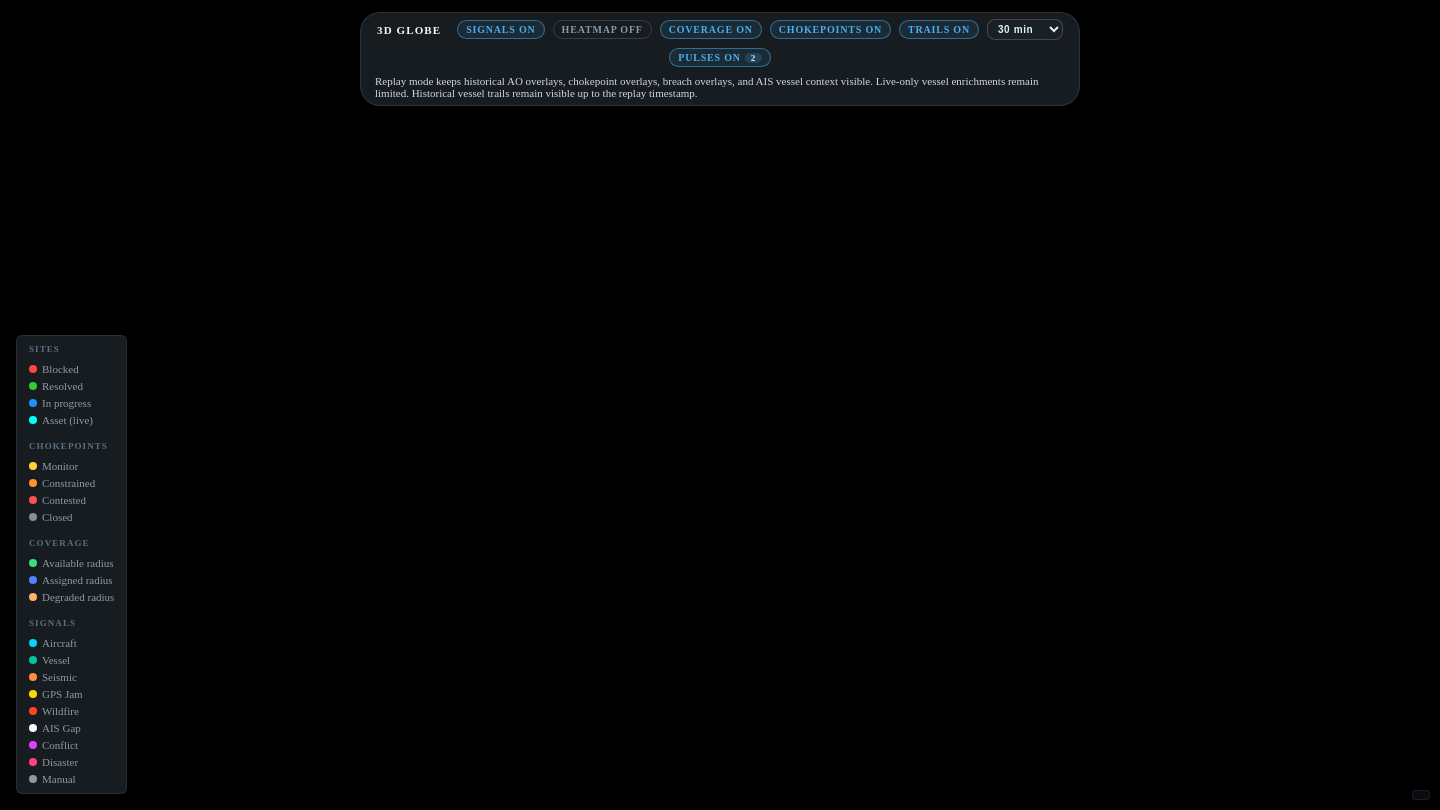
Test: GlobePage selection routing › renders the replay pulses toggle during replay with the pulse count badge and forwards the layer toggle
Click the button with test id "globe-replay-pulses-toggle" at (720, 58), box [669,48,771,67]
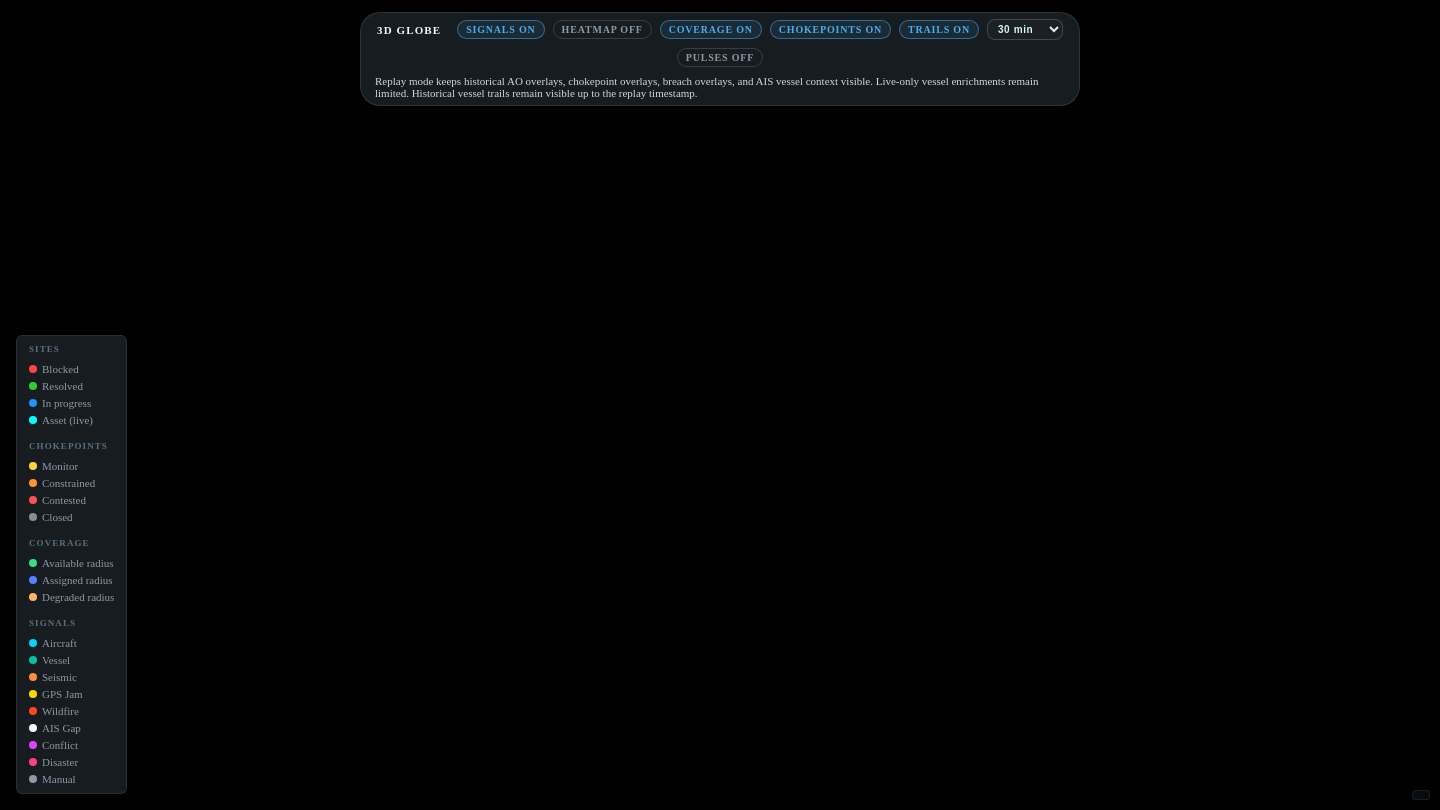
Check: the button with test id "globe-replay-pulses-toggle" reads "PULSES OFF", box [677,48,763,67]
